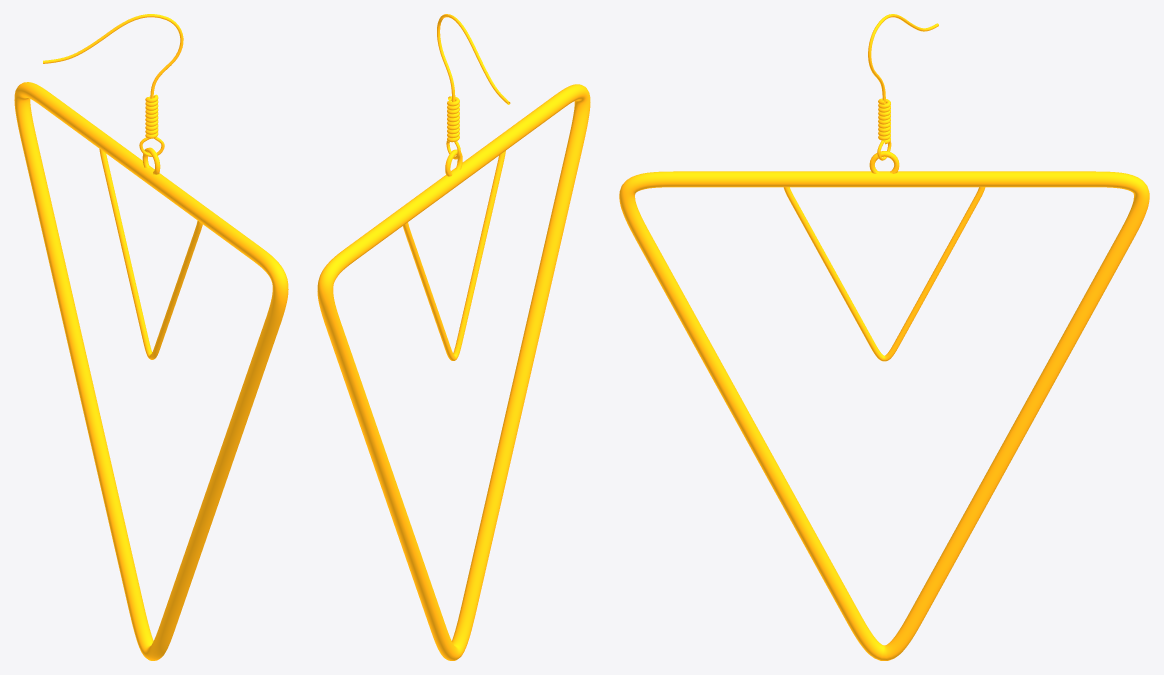
Rendered from BasicShapeEarrings.glb.
3 renders of one model, left to right at view 1: azimuth 30°, elevation 25°; view 2: azimuth 150°, elevation 25°; view 3: azimuth 270°, elevation 25°, orthographic.
Visible parts, largest first — view 1: Basic Shape Earrings; view 2: Basic Shape Earrings; view 3: Basic Shape Earrings.
Part boxes in pixels (x1,y1,x2,y2): Basic Shape Earrings: (14,14,288,660); Basic Shape Earrings: (317,14,590,660); Basic Shape Earrings: (619,14,1149,660).
Size of the model in its own units: 0.0134 by 0.0772 by 0.0577.
